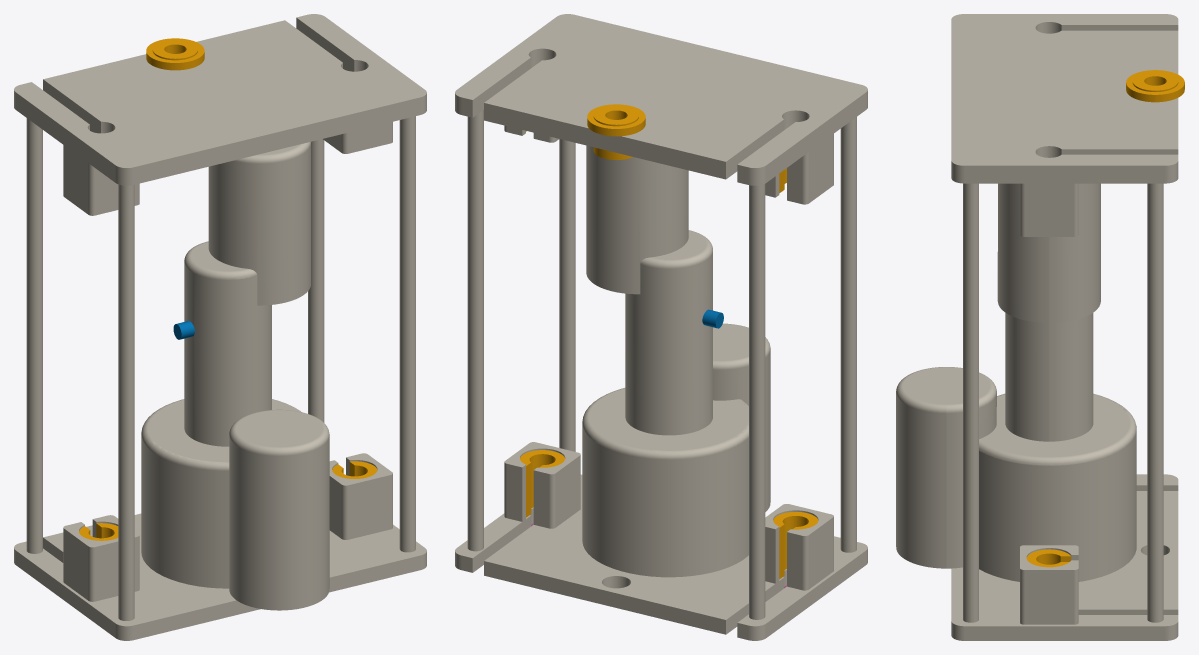
Rendered from drill_head.glb.
The picture shows the model from 3 angles, left to right: view 1: azimuth 30°, elevation 25°; view 2: azimuth 150°, elevation 25°; view 3: azimuth 270°, elevation 25°; orthographic projection.
Parts seen in each view (by area): view 1: Head_Housing_Ti, Carriage_Top_Yoke, Carriage_Base_Plate, Carriage_Tie_Rod_00, Carriage_Tie_Rod_10, Carriage_Tie_Rod_01, Linear_Bearing_Block_R_Lower, Carriage_Tie_Rod_11, Linear_Bearing_Block_L_Lower, Linear_Bearing_Block_L_Upper, Leadscrew_Nut_Tr16x4_Bronze, Linear_Bearing_Block_R_Upper; view 2: Head_Housing_Ti, Carriage_Top_Yoke, Carriage_Base_Plate, Carriage_Tie_Rod_11, Carriage_Tie_Rod_01, Carriage_Tie_Rod_00, Carriage_Tie_Rod_10, Linear_Bearing_Block_R_Lower, Linear_Bearing_Block_L_Lower, Linear_Bearing_Block_L_Upper, Leadscrew_Nut_Tr16x4_Bronze, LM16UU_OP_L_Lower (+1 smaller); view 3: Head_Housing_Ti, Carriage_Top_Yoke, Carriage_Base_Plate, Carriage_Tie_Rod_11, Carriage_Tie_Rod_10, Linear_Bearing_Block_R_Lower, Linear_Bearing_Block_R_Upper, Leadscrew_Nut_Tr16x4_Bronze, LM16UU_OP_R_Lower.
Boxes of the visible parts, bbox=[...] form: Head_Housing_Ti: bbox=[141, 142, 329, 610]; Carriage_Top_Yoke: bbox=[14, 14, 426, 185]; Carriage_Base_Plate: bbox=[14, 513, 426, 640]; Carriage_Tie_Rod_00: bbox=[118, 184, 134, 620]; Carriage_Tie_Rod_10: bbox=[399, 116, 415, 552]; Carriage_Tie_Rod_01: bbox=[26, 118, 42, 553]; Linear_Bearing_Block_R_Lower: bbox=[329, 453, 392, 539]; Carriage_Tie_Rod_11: bbox=[308, 139, 324, 422]; Linear_Bearing_Block_L_Lower: bbox=[63, 515, 139, 601]; Linear_Bearing_Block_L_Upper: bbox=[63, 145, 139, 215]; Leadscrew_Nut_Tr16x4_Bronze: bbox=[146, 38, 204, 70]; Linear_Bearing_Block_R_Upper: bbox=[323, 122, 392, 153]; Head_Housing_Ti: bbox=[582, 145, 770, 577]; Carriage_Top_Yoke: bbox=[455, 14, 867, 185]; Carriage_Base_Plate: bbox=[455, 474, 867, 640]; Carriage_Tie_Rod_11: bbox=[467, 110, 483, 551]; Carriage_Tie_Rod_01: bbox=[749, 184, 765, 619]; Carriage_Tie_Rod_00: bbox=[840, 117, 856, 552]; Carriage_Tie_Rod_10: bbox=[559, 139, 575, 451]; Linear_Bearing_Block_R_Lower: bbox=[504, 442, 580, 528]; Linear_Bearing_Block_L_Lower: bbox=[765, 504, 833, 590]; Linear_Bearing_Block_L_Upper: bbox=[765, 134, 833, 204]; Leadscrew_Nut_Tr16x4_Bronze: bbox=[587, 104, 645, 160]; LM16UU_OP_L_Lower: bbox=[773, 512, 818, 579]; Head_Housing_Ti: bbox=[896, 183, 1136, 581]; Carriage_Top_Yoke: bbox=[951, 14, 1178, 183]; Carriage_Base_Plate: bbox=[951, 474, 1178, 640]; Carriage_Tie_Rod_11: bbox=[1147, 183, 1163, 622]; Carriage_Tie_Rod_10: bbox=[963, 183, 978, 622]; Linear_Bearing_Block_R_Lower: bbox=[1020, 545, 1078, 624]; Linear_Bearing_Block_R_Upper: bbox=[1020, 183, 1078, 236]; Leadscrew_Nut_Tr16x4_Bronze: bbox=[1126, 70, 1184, 102]; LM16UU_OP_R_Lower: bbox=[1026, 549, 1071, 567].
Size of the model in its own units: 0.22 by 0.3392 by 0.1768.
